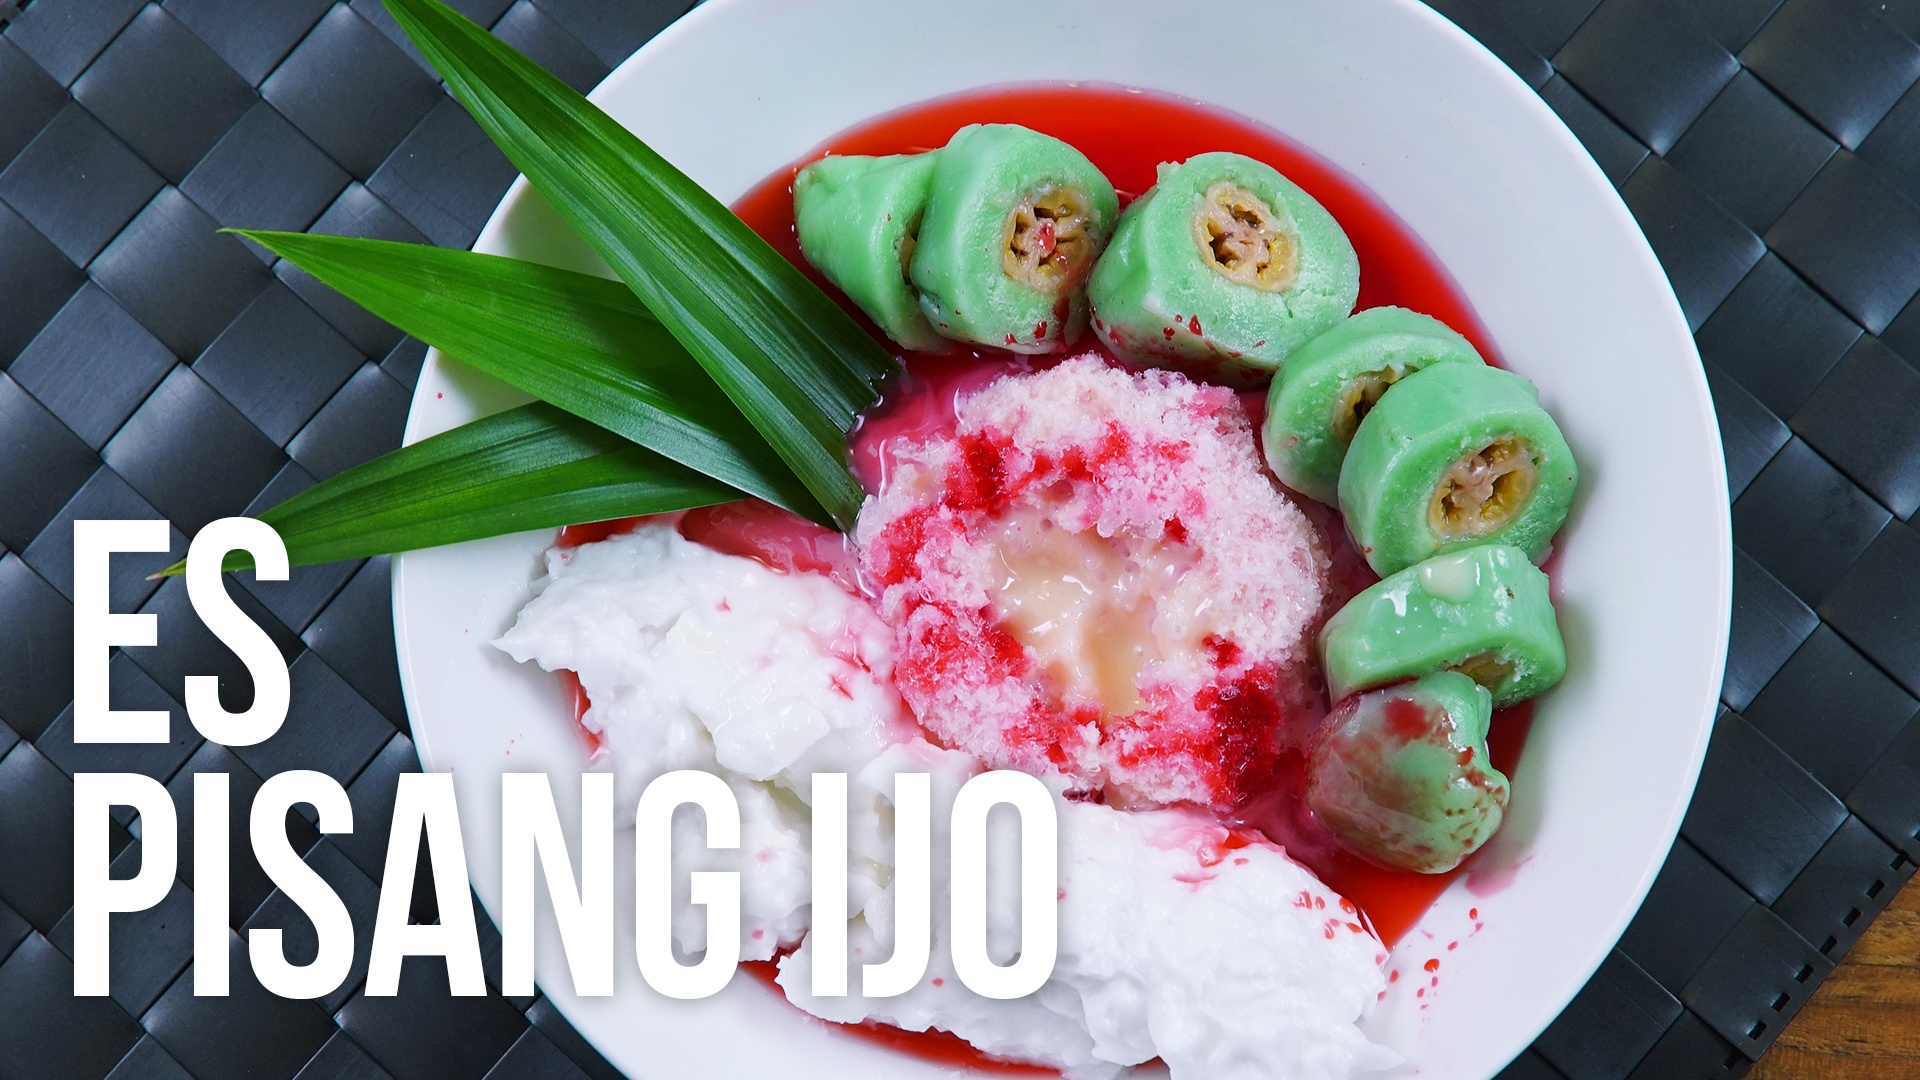pisang_ijo: (1077, 142, 1361, 367)
